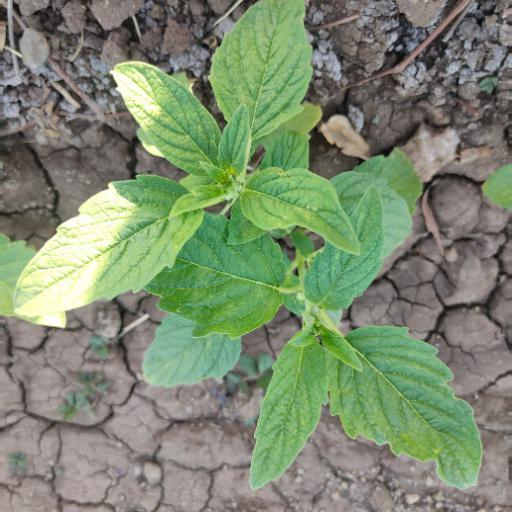crop: (27, 4, 491, 511)
